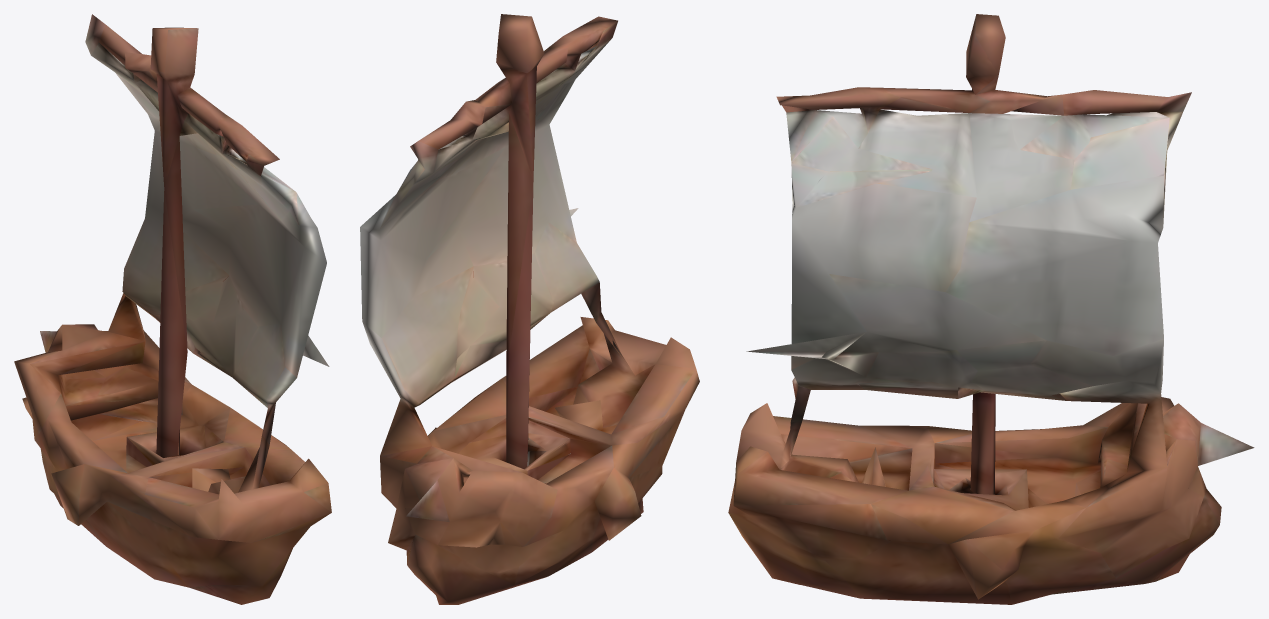
The model's file is boat.glb.
3 views of the same model, side by side, from view 1: azimuth 30°, elevation 25°; view 2: azimuth 150°, elevation 25°; view 3: azimuth 270°, elevation 25° (orthographic). The views are drawn at different scales.
Parts seen in each view (by area): view 1: tripo_node_c637112a-247b-4578-986f-434d3990e1bf; view 2: tripo_node_c637112a-247b-4578-986f-434d3990e1bf; view 3: tripo_node_c637112a-247b-4578-986f-434d3990e1bf.
Boxes of the visible parts, bbox=[...] form: tripo_node_c637112a-247b-4578-986f-434d3990e1bf: bbox=[14, 14, 331, 604]; tripo_node_c637112a-247b-4578-986f-434d3990e1bf: bbox=[360, 14, 699, 604]; tripo_node_c637112a-247b-4578-986f-434d3990e1bf: bbox=[728, 14, 1254, 604].
Size of the model in its own units: 0.4045 by 1 by 0.8429.
Materials: 1 (1 with a texture image).
